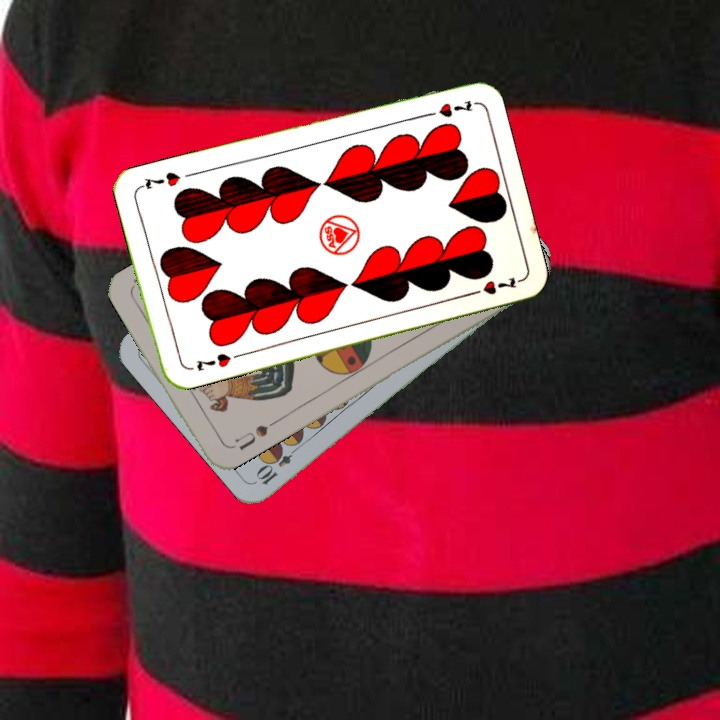E10: (253, 440, 303, 488)
H7: (418, 96, 475, 120), (192, 349, 234, 374)
SU: (231, 417, 279, 453)
